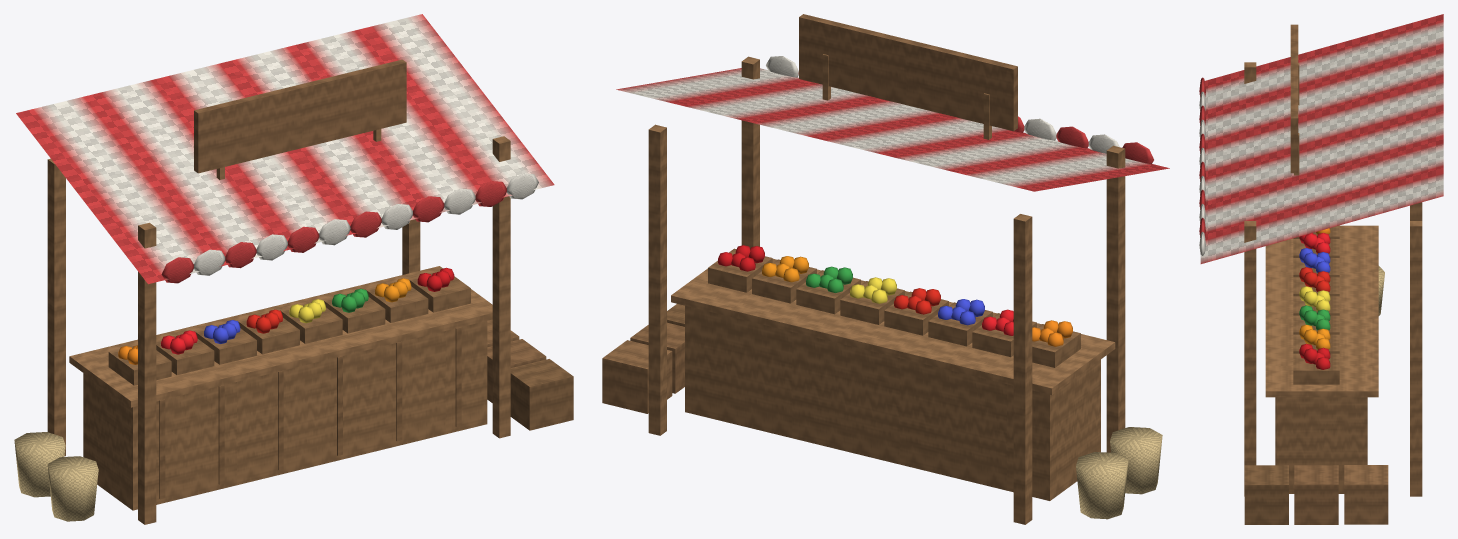
Rendered from stall.glb.
The picture shows the model from 3 angles, left to right: view 1: azimuth 30°, elevation 25°; view 2: azimuth 150°, elevation 25°; view 3: azimuth 270°, elevation 25°; orthographic projection. The views are drawn at different scales.
Parts seen in each view (by area): view 1: stall; view 2: stall; view 3: stall.
Part boxes in pixels (x1=…): stall: x1=14, y1=14, x2=573, y2=524; stall: x1=602, y1=14, x2=1169, y2=524; stall: x1=1199, y1=14, x2=1443, y2=524.
Bounding box in the file's own units: 4.73 × 3.42 × 2.21.
Materials: 3 (2 with a texture image).
